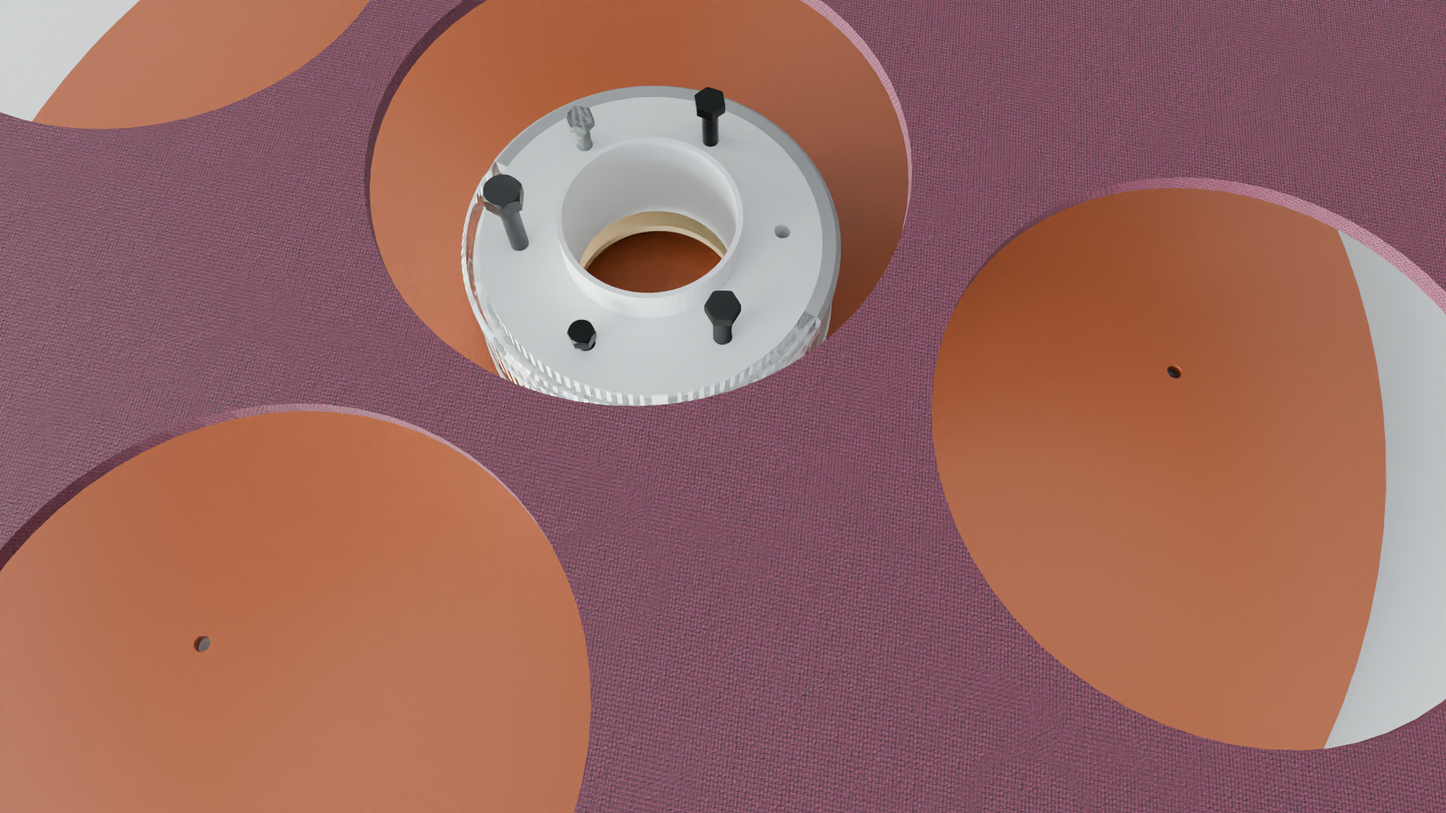bolt: (483, 174, 521, 211), (704, 291, 741, 321), (694, 87, 725, 114), (566, 319, 596, 344), (566, 106, 594, 129)
